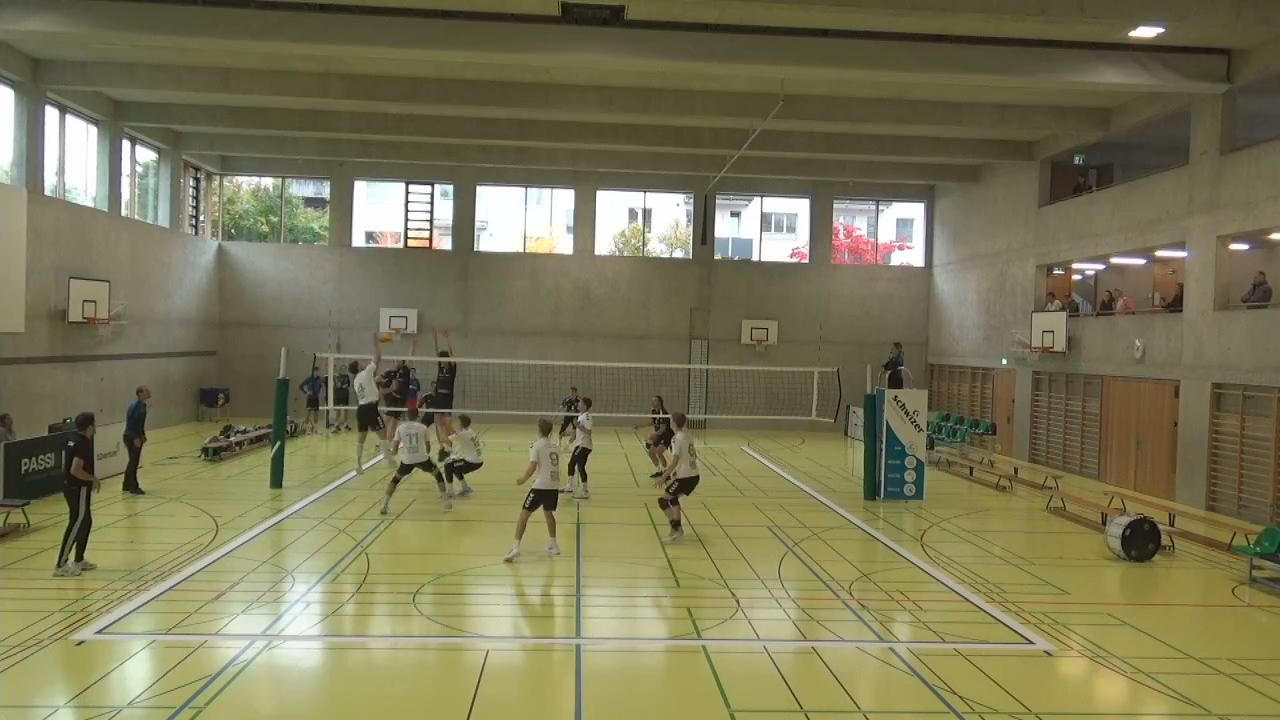Attack: (340, 342, 399, 482)
Block: (372, 326, 420, 436), (425, 320, 461, 457)
Player: (505, 419, 565, 561), (380, 407, 442, 512), (659, 419, 700, 543), (439, 413, 485, 500), (564, 396, 594, 498), (642, 393, 675, 481), (415, 370, 440, 434), (560, 385, 583, 440)
ball: (377, 327, 394, 344)
